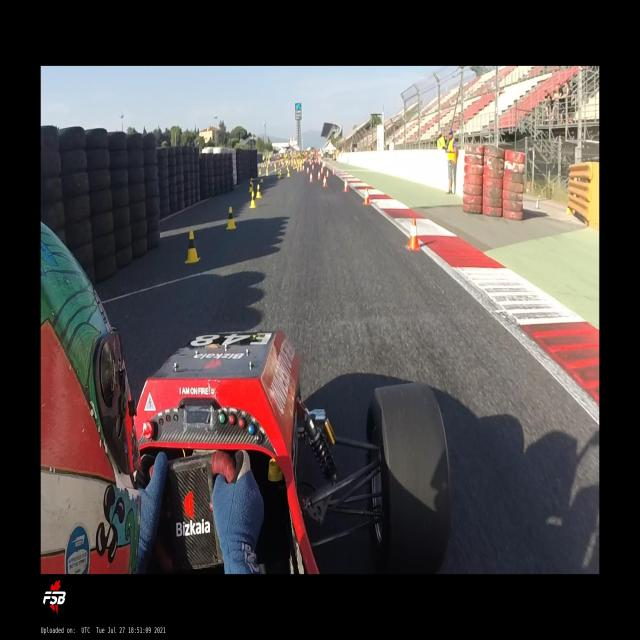orange_cone: (406, 217, 421, 251), (363, 188, 370, 204), (344, 180, 348, 192), (323, 176, 327, 187), (326, 169, 329, 177), (310, 172, 312, 182), (320, 167, 323, 173), (318, 172, 320, 179), (333, 168, 335, 175), (307, 167, 309, 173)
yellow_cone: (185, 230, 200, 262), (226, 207, 237, 229), (249, 191, 256, 209), (256, 185, 262, 198), (249, 181, 253, 192), (287, 169, 290, 177), (260, 175, 263, 182), (266, 168, 268, 176), (278, 171, 280, 179), (280, 169, 282, 176), (259, 169, 261, 175)
